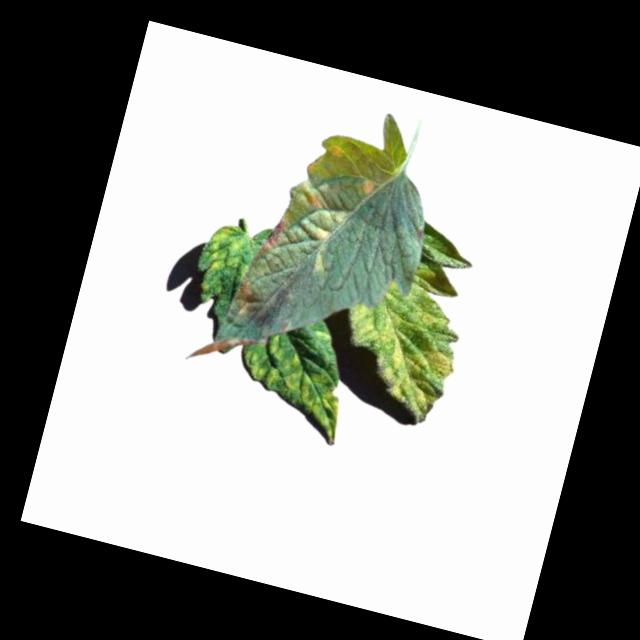Leaf_Mold: (329, 248, 479, 424), (227, 324, 358, 447), (267, 179, 357, 278), (193, 220, 245, 301), (228, 276, 265, 323)
